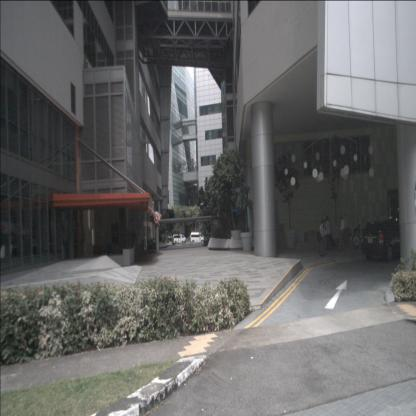human-pedestrian-adult: (317, 219, 326, 257), (324, 216, 332, 251), (338, 217, 346, 251), (353, 224, 360, 248), (324, 219, 328, 251)
vehicle-car: (361, 221, 416, 262), (190, 232, 205, 244), (172, 234, 186, 244)
